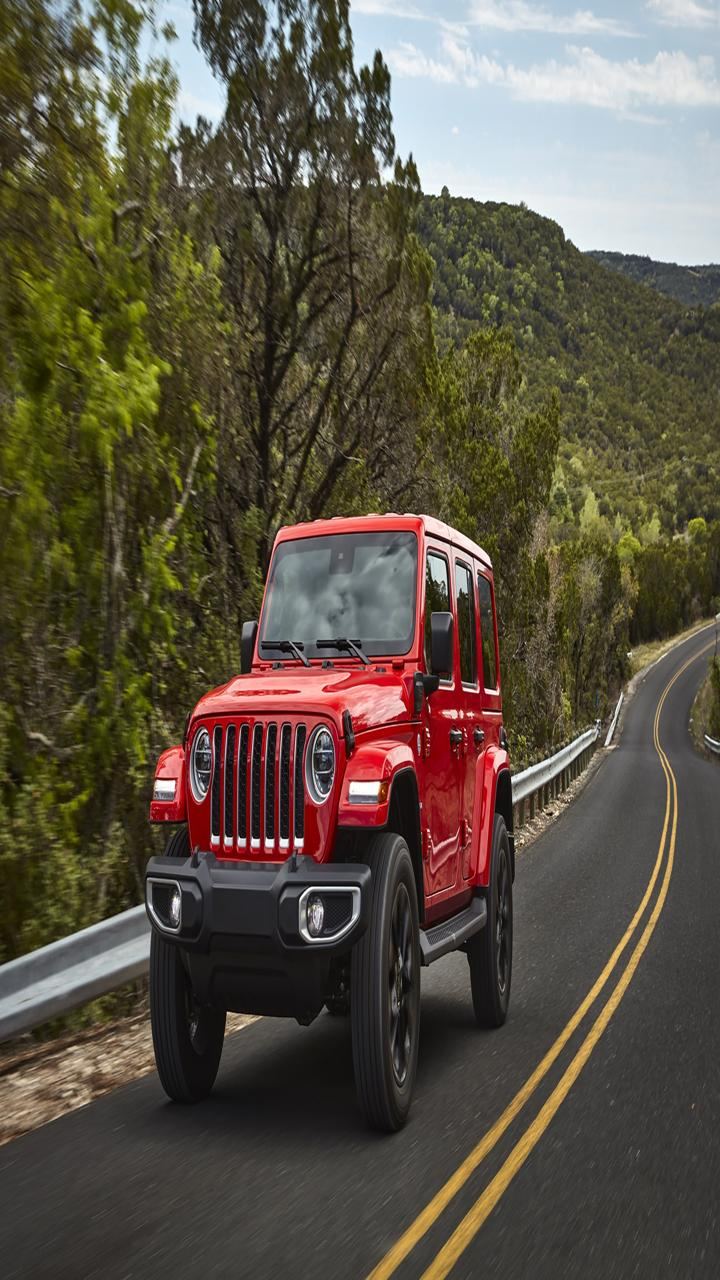vehicle: (131, 497, 538, 1151)
